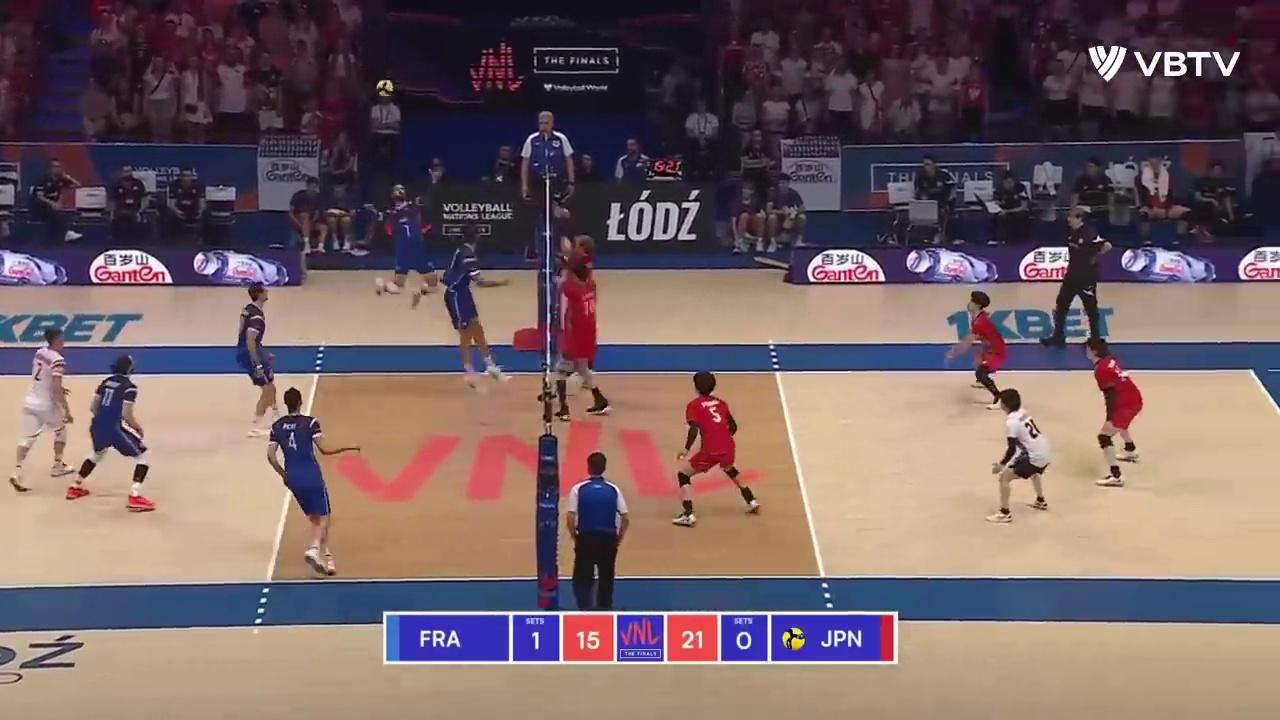ball: (378, 79, 393, 97)
